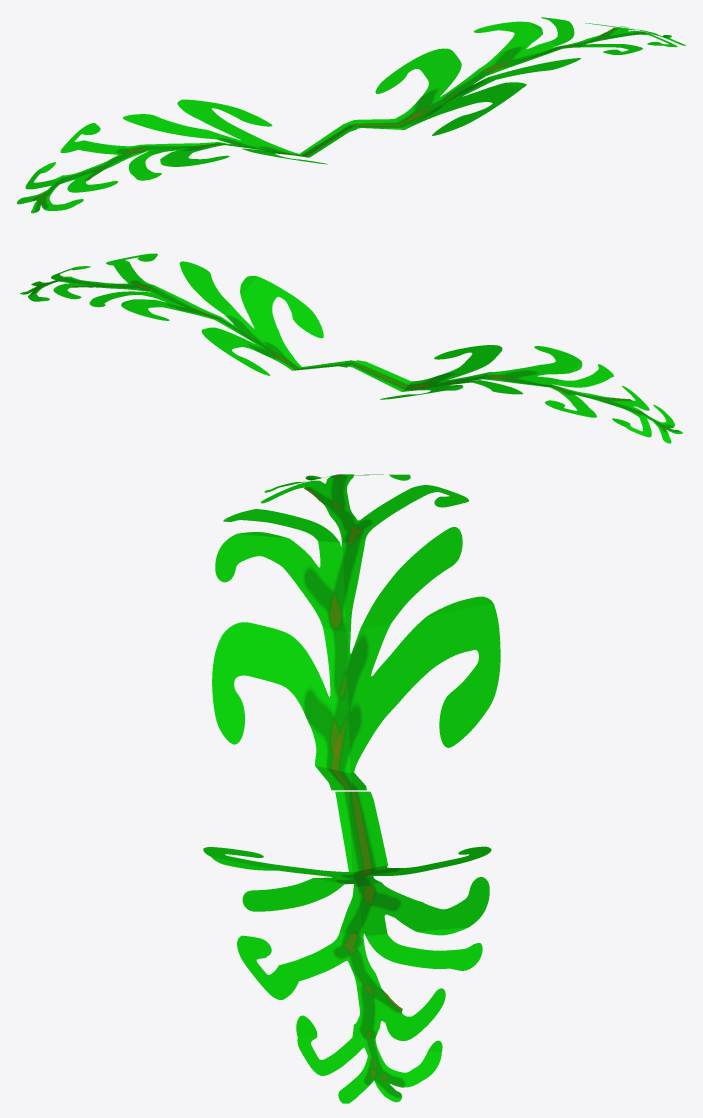
3 views of the same model, one above another, from view 1: azimuth 30°, elevation 25°; view 2: azimuth 150°, elevation 25°; view 3: azimuth 270°, elevation 25° (orthographic). The views are drawn at different scales.
Parts seen in each view (by area): view 1: Plane; view 2: Plane; view 3: Plane.
Boxes of the visible parts, x1,y1,x2,y2 form: Plane: (17, 17, 685, 213); Plane: (20, 253, 682, 443); Plane: (203, 474, 500, 1103).
Size of the model in its own units: 855 by 73.74 by 176.
Materials: 1 (1 with a texture image).
